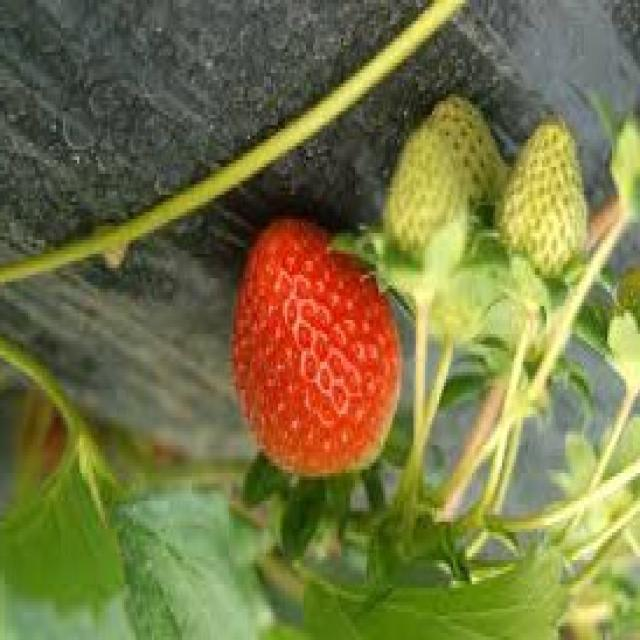ripe: (229, 215, 403, 476)
unripe: (496, 122, 588, 282), (390, 124, 468, 262)
